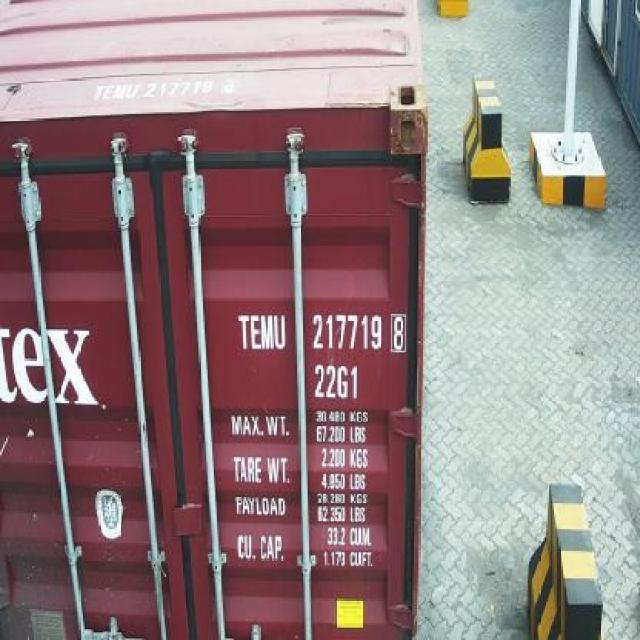ISO: (308, 363, 358, 393)
container_number: (236, 314, 404, 351)
